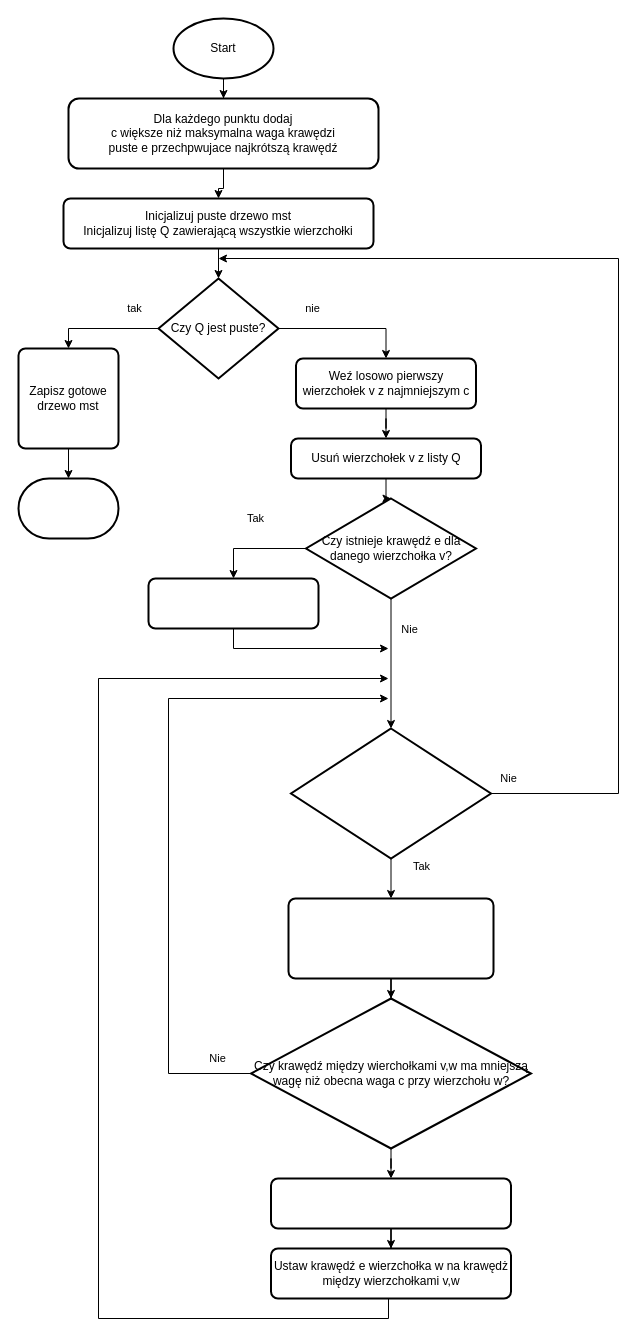
Image size: 644x1344. Some labels were removed from this diagram. Each missing label, with the centre of its shape:
Czy istnieje niesprawdzony wierzchołek sąsiadujacy z obecnie badanym?: pixel 391 793
Dodaj krawędź e do zbioru mst: pixel 233 603
Koniec: pixel 68 508
Ustaw wagę c wierzchołka w na wagę krawędzi między wierzchołkami v,w: pixel 391 1203
Weź kolejny wierzchołek "w" sąsiadujący z obecnym wierzchołkiem v: pixel 390 938
